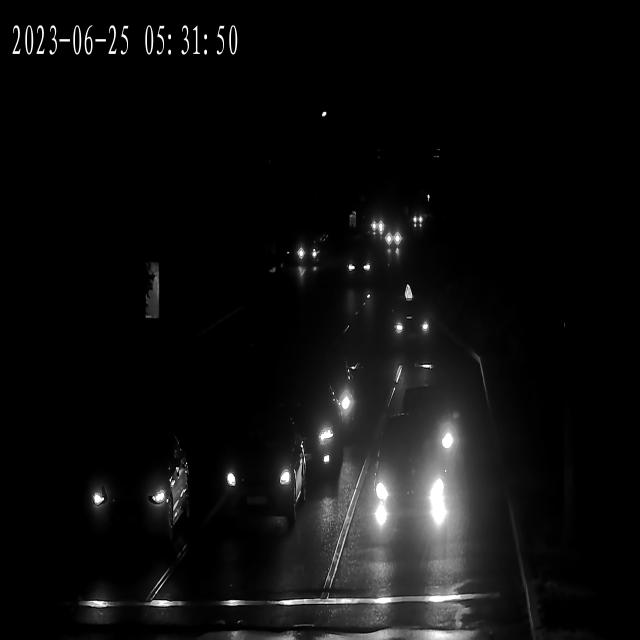Car: (84, 428, 187, 558), (218, 417, 306, 529), (373, 442, 451, 547), (402, 381, 463, 507), (276, 396, 346, 496), (302, 368, 366, 436), (391, 290, 436, 354), (338, 245, 373, 292), (296, 237, 318, 271), (367, 211, 388, 240), (387, 222, 404, 254), (408, 206, 426, 229)
